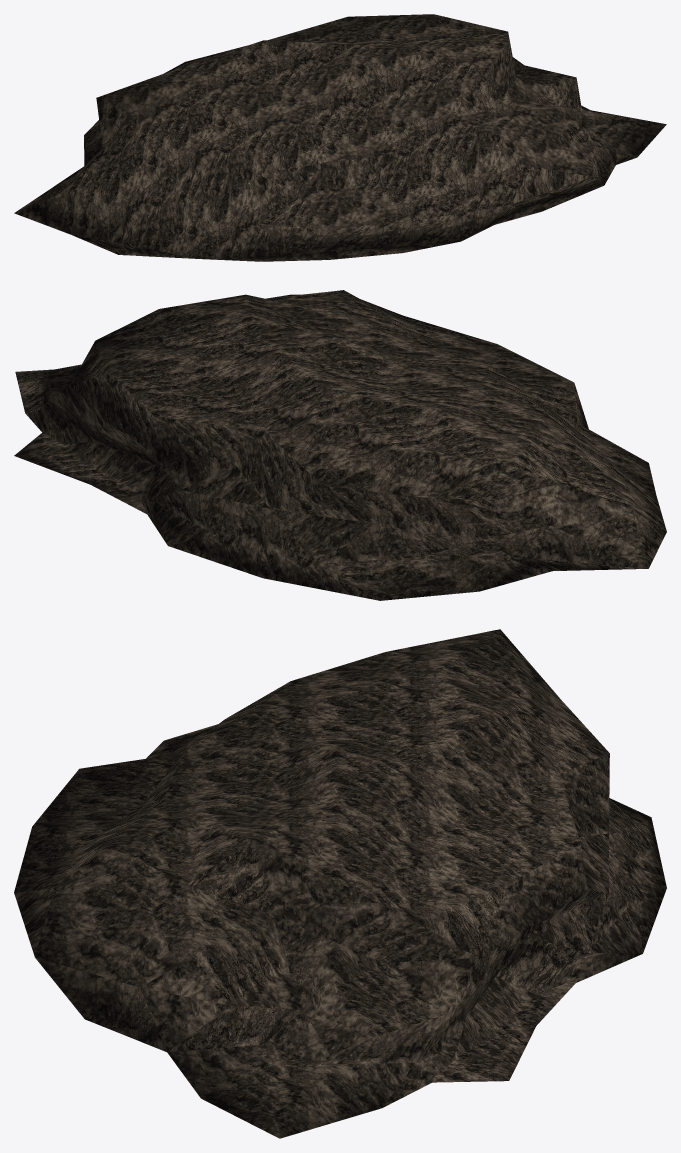
File: rock_6.gltf
3 renders of one model, top to bottom at view 1: azimuth 30°, elevation 25°; view 2: azimuth 150°, elevation 25°; view 3: azimuth 270°, elevation 25°, orthographic. The views are drawn at different scales.
Visible parts, largest first — view 1: rock; view 2: rock; view 3: rock.
Boxes of the visible parts, x1,y1,x2,y2 form: rock: (14,14,666,261); rock: (14,290,666,600); rock: (14,629,666,1138).
Bounding box in the file's own units: 138 × 25.88 × 86.37.
1 material, 1 textured.
